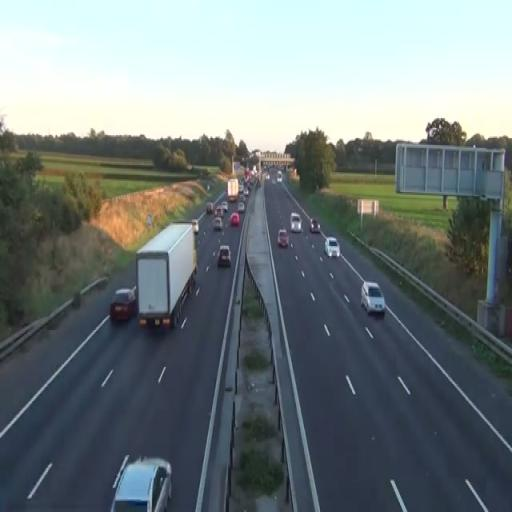Car: (110, 454, 172, 512), (110, 286, 138, 323), (360, 281, 386, 315), (324, 237, 340, 258), (217, 244, 231, 268), (290, 212, 302, 232), (278, 228, 288, 248), (310, 218, 320, 233), (230, 212, 240, 226)
Truck: (136, 221, 198, 329), (227, 178, 239, 202)
